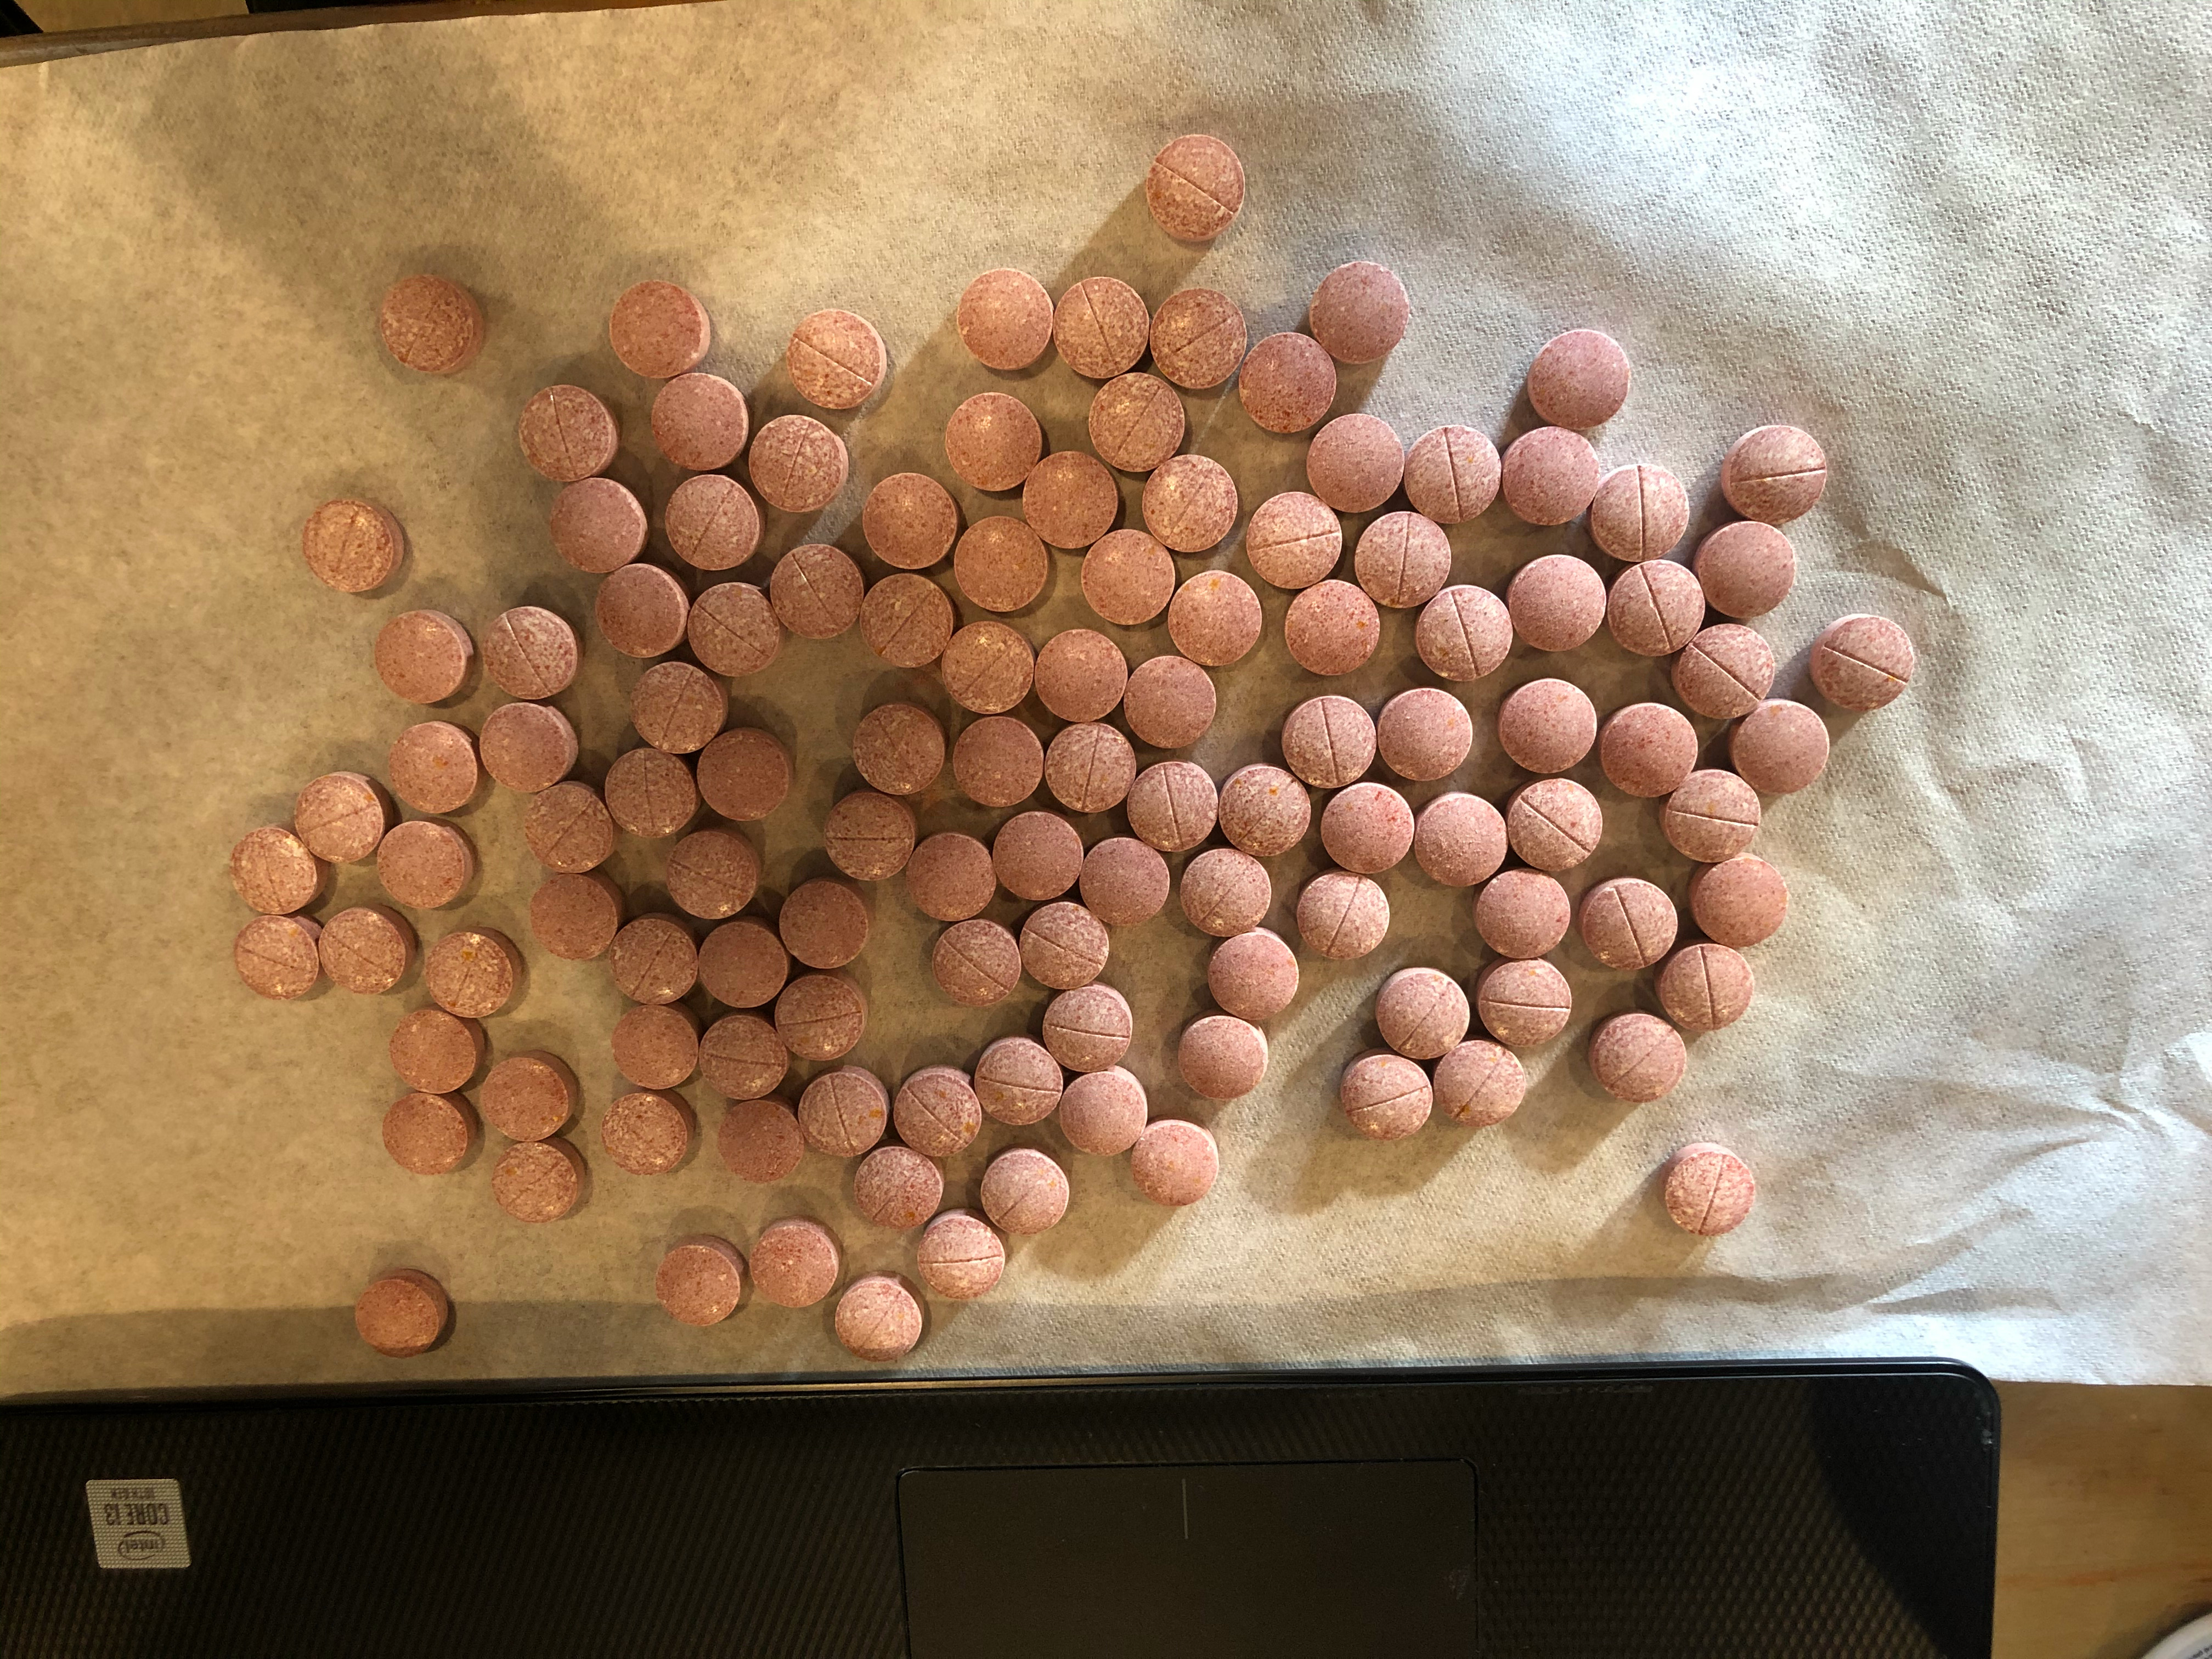tablet: (378, 274, 491, 380), (784, 305, 892, 413), (1717, 423, 1829, 528), (1146, 132, 1249, 246), (1524, 326, 1630, 434), (298, 495, 409, 598), (1306, 258, 1411, 366), (1691, 519, 1799, 624), (1237, 329, 1339, 439), (1810, 612, 1919, 714), (1496, 674, 1602, 779), (1148, 284, 1251, 392), (1400, 422, 1503, 530), (1240, 488, 1345, 592), (1049, 275, 1151, 382), (1303, 410, 1406, 516), (949, 511, 1052, 615), (1278, 577, 1383, 680), (1670, 620, 1775, 723), (516, 382, 622, 483), (1585, 462, 1691, 563), (1606, 558, 1709, 660), (648, 369, 752, 471), (745, 415, 850, 516), (944, 390, 1045, 495), (953, 268, 1054, 373), (1085, 371, 1190, 472), (1019, 448, 1120, 552), (1500, 427, 1604, 528), (606, 277, 707, 380), (1353, 509, 1454, 612), (1505, 556, 1608, 657), (662, 472, 761, 577), (1078, 526, 1179, 627), (1278, 690, 1379, 791), (1599, 699, 1700, 800), (1728, 699, 1831, 798), (373, 608, 477, 706), (423, 925, 528, 1023), (766, 540, 864, 645), (1684, 854, 1789, 951), (627, 662, 733, 758), (479, 603, 580, 702), (1143, 453, 1240, 556), (1660, 767, 1763, 864), (862, 471, 961, 570), (1658, 1141, 1757, 1241), (549, 474, 646, 575), (937, 617, 1035, 718), (1416, 586, 1517, 683), (693, 725, 796, 821), (1653, 943, 1757, 1037), (859, 570, 956, 669), (1122, 653, 1221, 751), (1292, 868, 1392, 965), (1505, 775, 1604, 873), (1167, 568, 1263, 669), (1578, 878, 1679, 974), (388, 1006, 491, 1100), (1472, 868, 1575, 962), (1587, 1009, 1689, 1103), (474, 701, 580, 791), (1374, 965, 1472, 1063), (850, 699, 949, 795), (773, 967, 873, 1063), (319, 904, 420, 999), (479, 1046, 580, 1140), (601, 746, 702, 840), (775, 877, 876, 971), (1217, 758, 1312, 859), (376, 819, 479, 911), (744, 1215, 841, 1310), (686, 580, 782, 678), (1043, 720, 1141, 816), (664, 828, 763, 922), (1033, 627, 1129, 723), (1125, 758, 1221, 854), (1432, 1039, 1527, 1134), (385, 721, 482, 816), (653, 1234, 751, 1328), (592, 563, 690, 657), (1176, 845, 1273, 939), (1414, 791, 1508, 889), (1379, 687, 1474, 784), (1202, 929, 1301, 1021), (1475, 958, 1575, 1051), (226, 826, 331, 913), (293, 770, 387, 866), (521, 781, 617, 875), (354, 1267, 451, 1359), (819, 791, 916, 884), (953, 713, 1045, 810), (1080, 833, 1172, 931), (1336, 1051, 1433, 1143), (916, 1209, 1010, 1304), (904, 828, 998, 922), (989, 809, 1083, 903), (831, 1270, 927, 1363), (1040, 983, 1136, 1075), (232, 913, 331, 1002), (524, 871, 624, 960), (489, 1140, 590, 1227), (972, 1035, 1066, 1127), (1055, 1068, 1148, 1161), (979, 1147, 1073, 1237), (1017, 901, 1111, 992), (1320, 784, 1414, 875), (1176, 1012, 1271, 1101), (599, 1087, 698, 1173), (1129, 1117, 1221, 1208), (930, 917, 1022, 1007), (850, 1145, 946, 1232), (380, 1091, 481, 1173), (716, 1098, 806, 1188), (698, 920, 789, 1011), (892, 1065, 981, 1157), (799, 1068, 888, 1157), (610, 1004, 698, 1091), (700, 1014, 787, 1103), (611, 915, 697, 1004)
